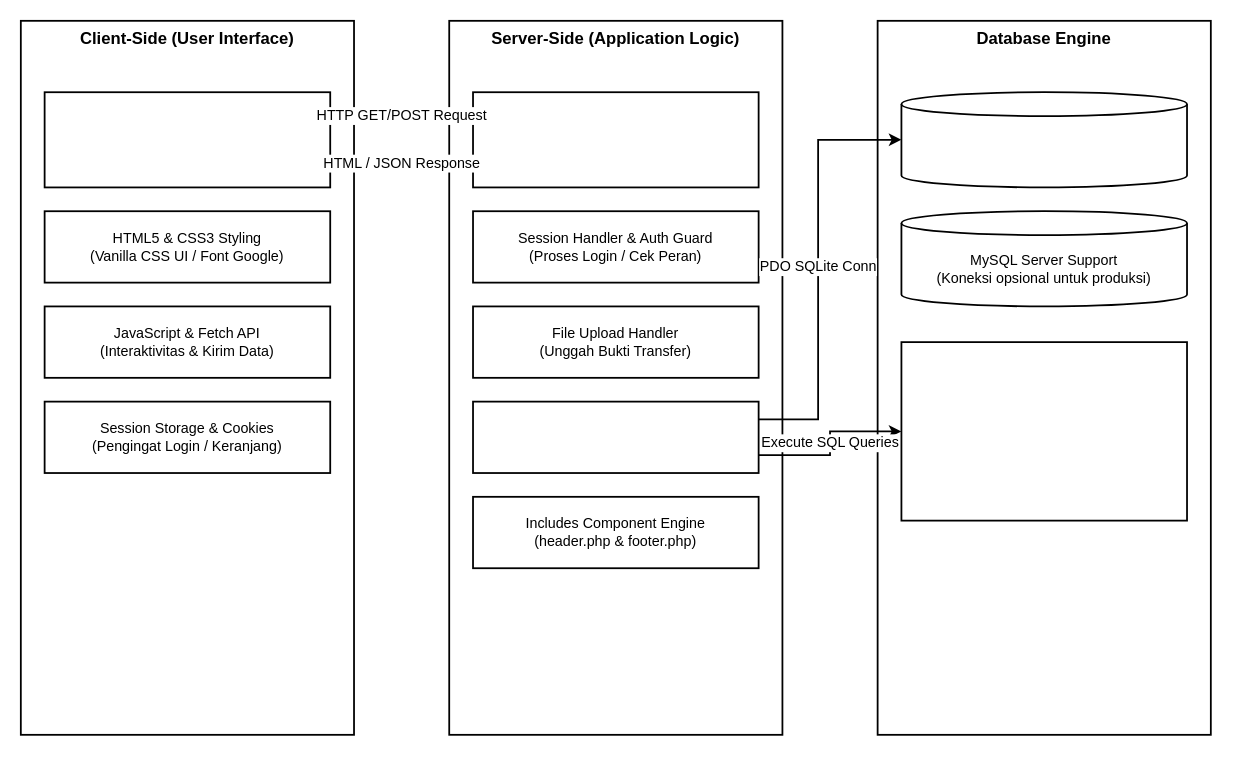
Some shapes in this 1233 by 757 pixel diagram are drawn without their labels. The centre of each missing label's shape, as x and y in pixels:
Database Tables (pengguna, produk, pesanan, dll.): point 1043,431
PDO Database Abstraction (config/db.php Helper): point 615,436
PHP Core Controller Scripts (index.php, katalog.php, dll.): point 615,139
SQLite Database Engine (database.sqlite File): point 1043,139
Web Browser Interface (Chrome, Firefox, Safari): point 187,139
